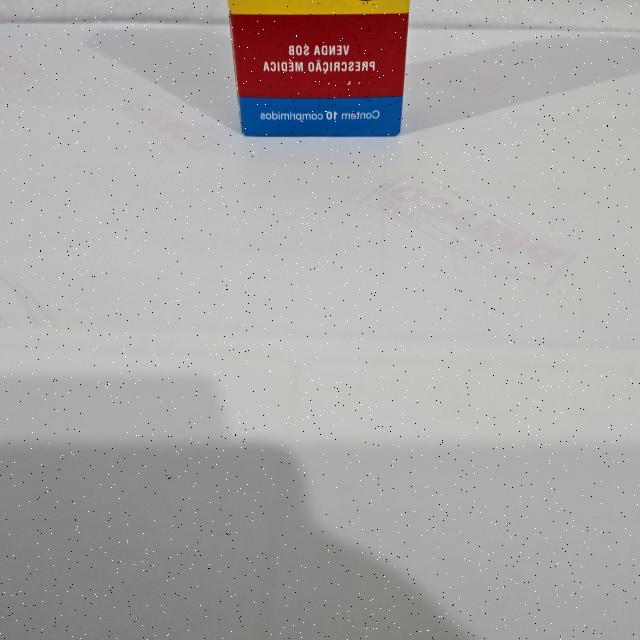prednisona: (223, 0, 411, 144)
